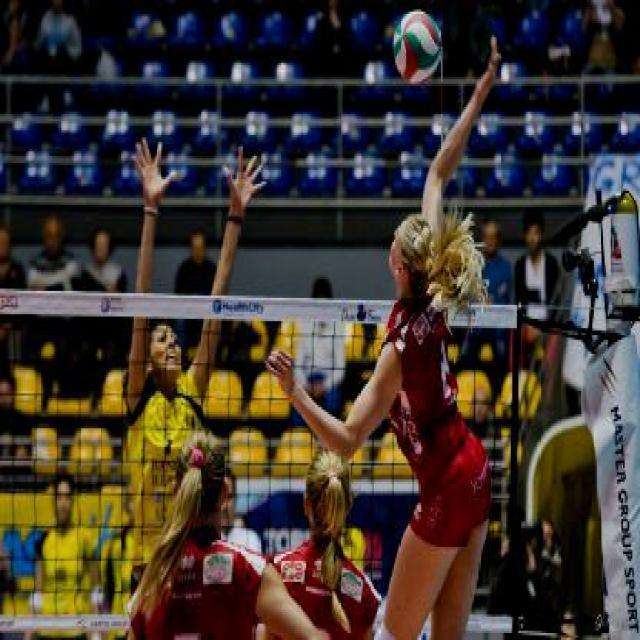volleyball: (392, 11, 442, 84)
